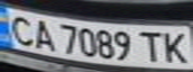0: (75, 25, 96, 57)
7: (54, 21, 81, 55)
8: (93, 27, 115, 61)
9: (112, 28, 136, 62)
A: (27, 17, 57, 52)
C: (3, 12, 39, 46)
K: (157, 28, 193, 64)
T: (136, 28, 166, 63)
